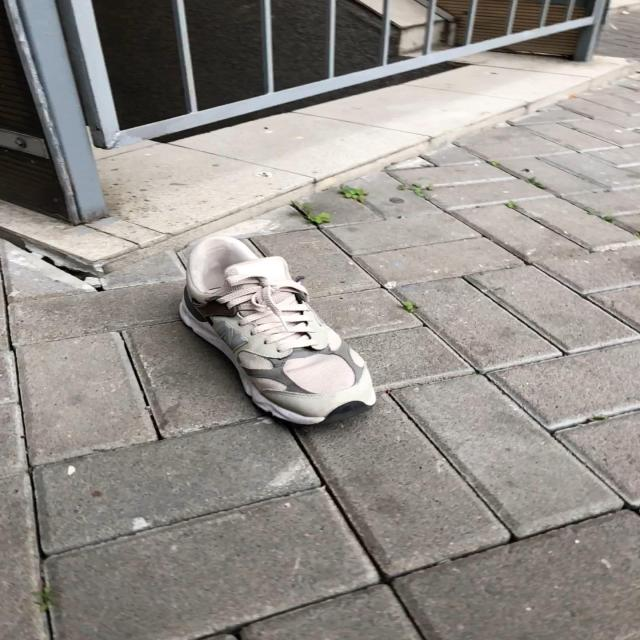shoe: (178, 234, 377, 429)
